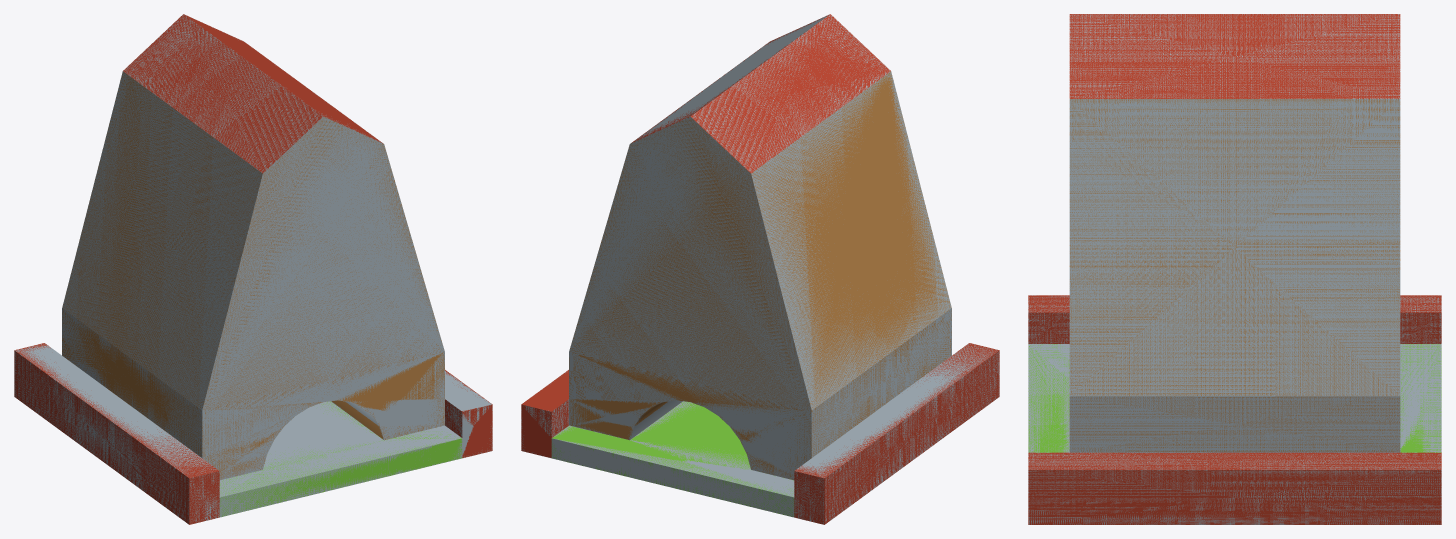
File: Windmill_01.obj
3 views of the same model, side by side, from view 1: azimuth 30°, elevation 25°; view 2: azimuth 150°, elevation 25°; view 3: azimuth 270°, elevation 25° (orthographic). The views are drawn at different scales.
Visible parts, largest first — view 1: Mesh1 Windmill Model; view 2: Mesh1 Windmill Model; view 3: Mesh1 Windmill Model.
Boxes of the visible parts, <box> form: Mesh1 Windmill Model: <box>14,14,492,524</box>; Mesh1 Windmill Model: <box>521,14,999,524</box>; Mesh1 Windmill Model: <box>1028,14,1441,524</box>.
Bounding box in the file's own units: 3 × 3.39 × 3.
